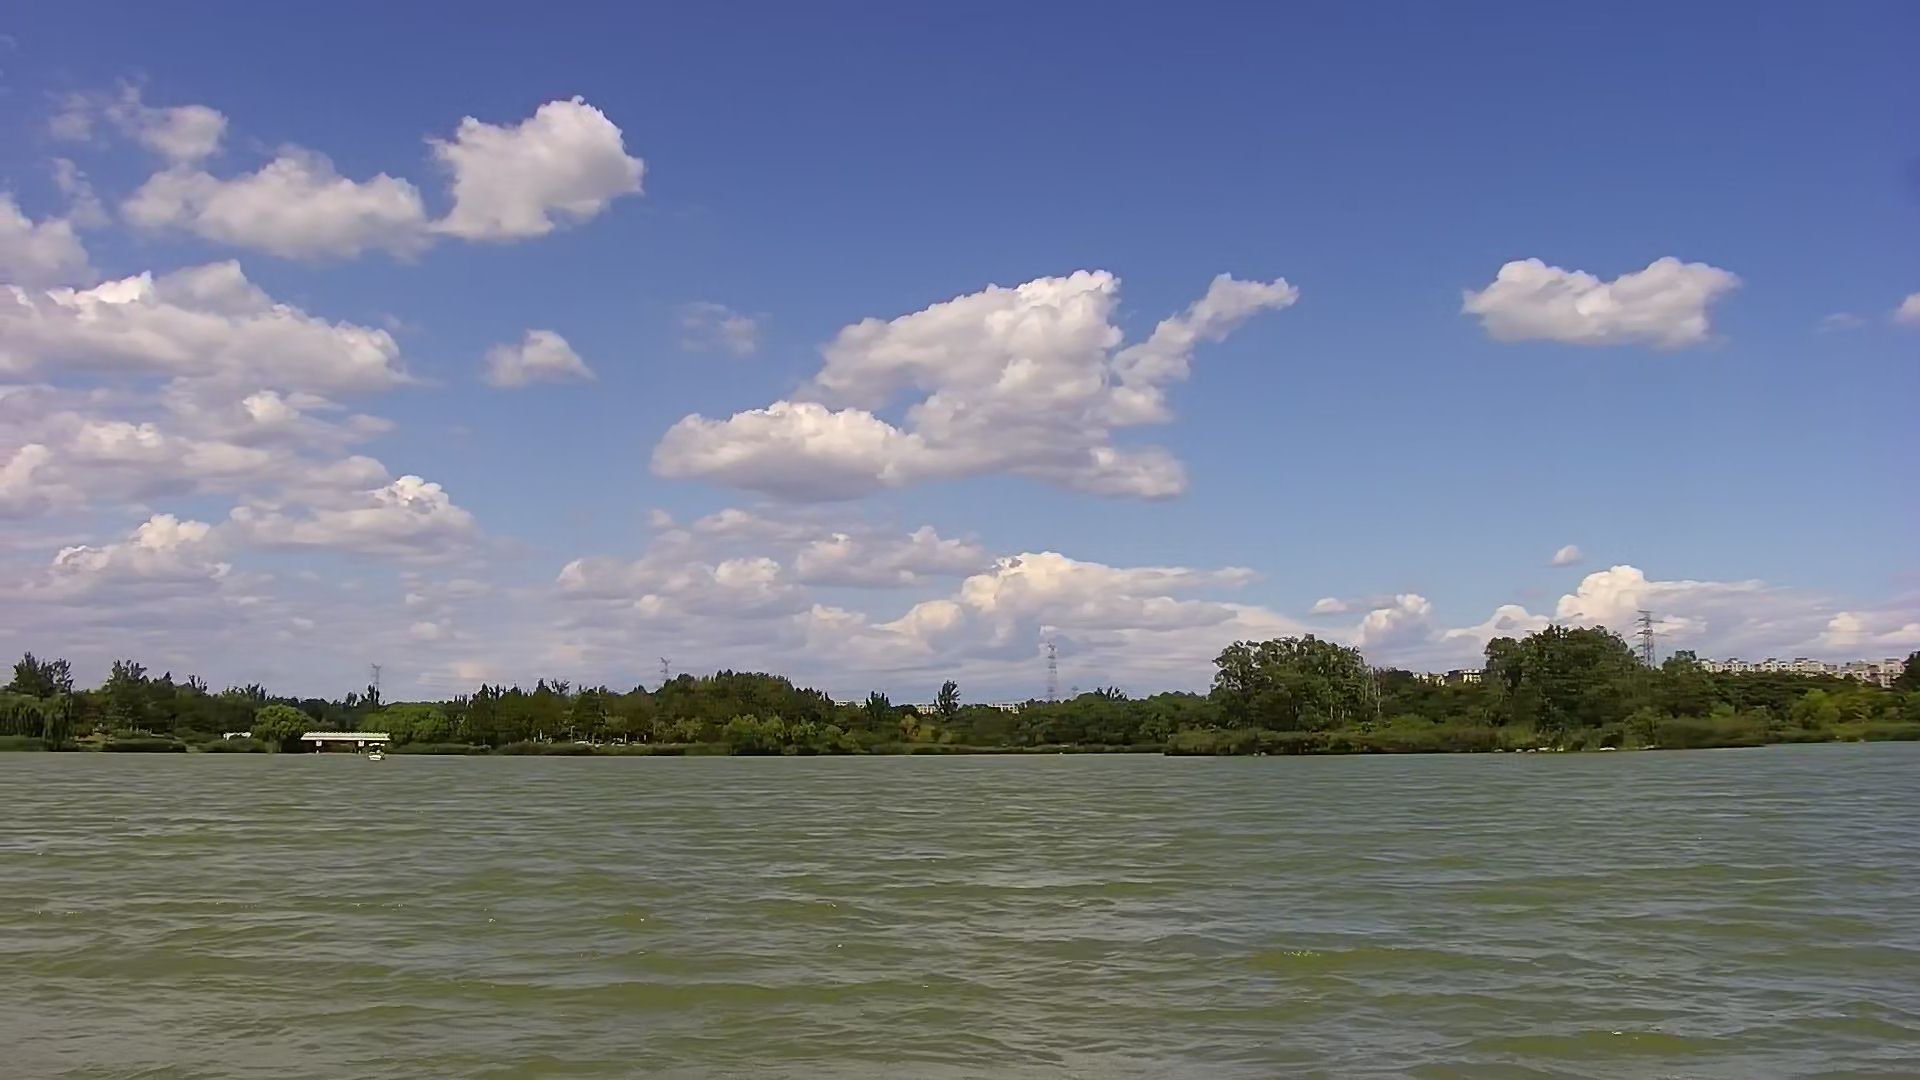bridge: (295, 717, 396, 748)
